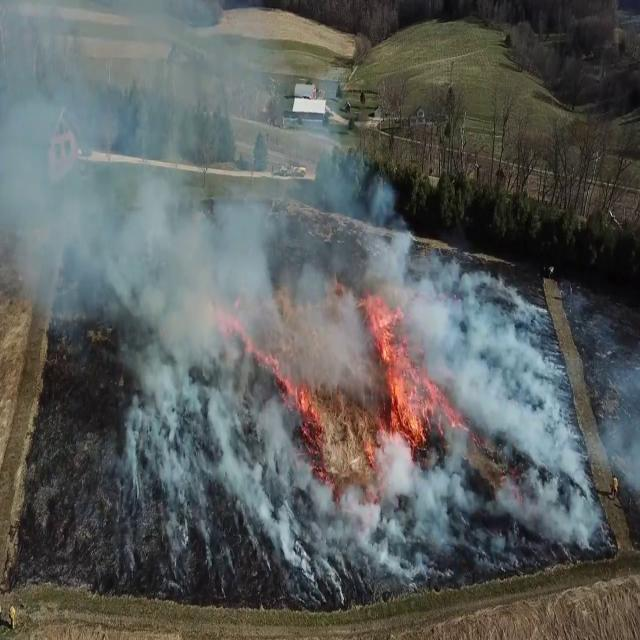Fire: (358, 276, 428, 452)
Smoke: (1, 6, 360, 572), (364, 255, 640, 571)
